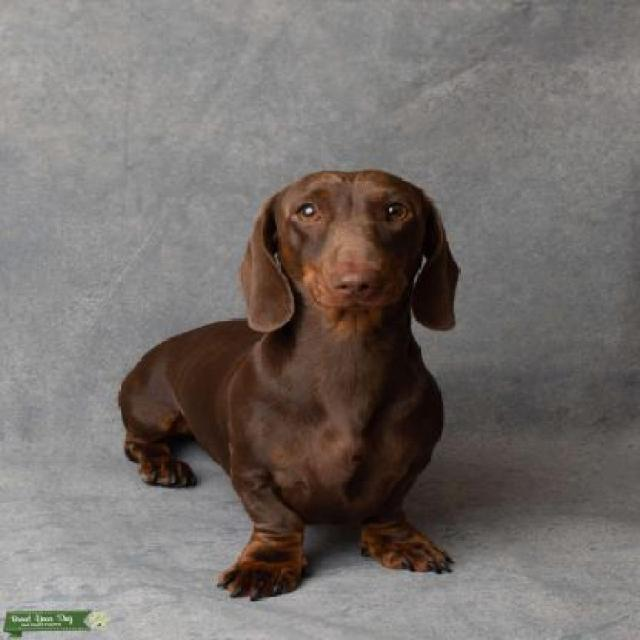Dog: (117, 169, 465, 600)
